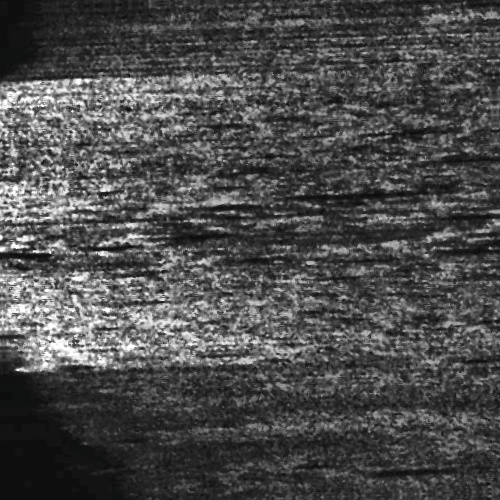object: (184, 187, 309, 202), (378, 159, 451, 168), (346, 218, 409, 225), (482, 214, 500, 221)
shadow: (247, 187, 392, 202), (378, 218, 476, 225), (415, 159, 490, 168)
